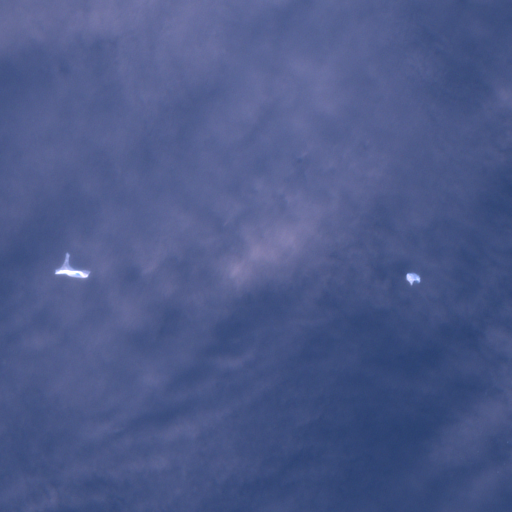Iceberg: (55, 253, 88, 277), (406, 273, 419, 284)
